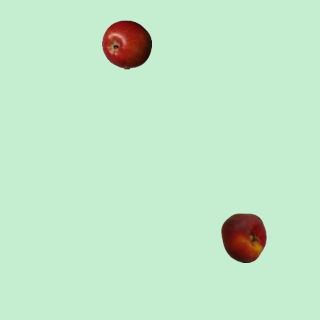Apple Braeburn: (101, 19, 151, 69)
Nectarine Flat: (218, 212, 268, 262)
